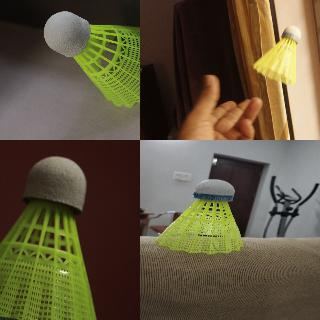shuttlecock: (0, 155, 98, 319), (43, 11, 139, 108), (154, 179, 244, 254), (253, 26, 301, 84)
